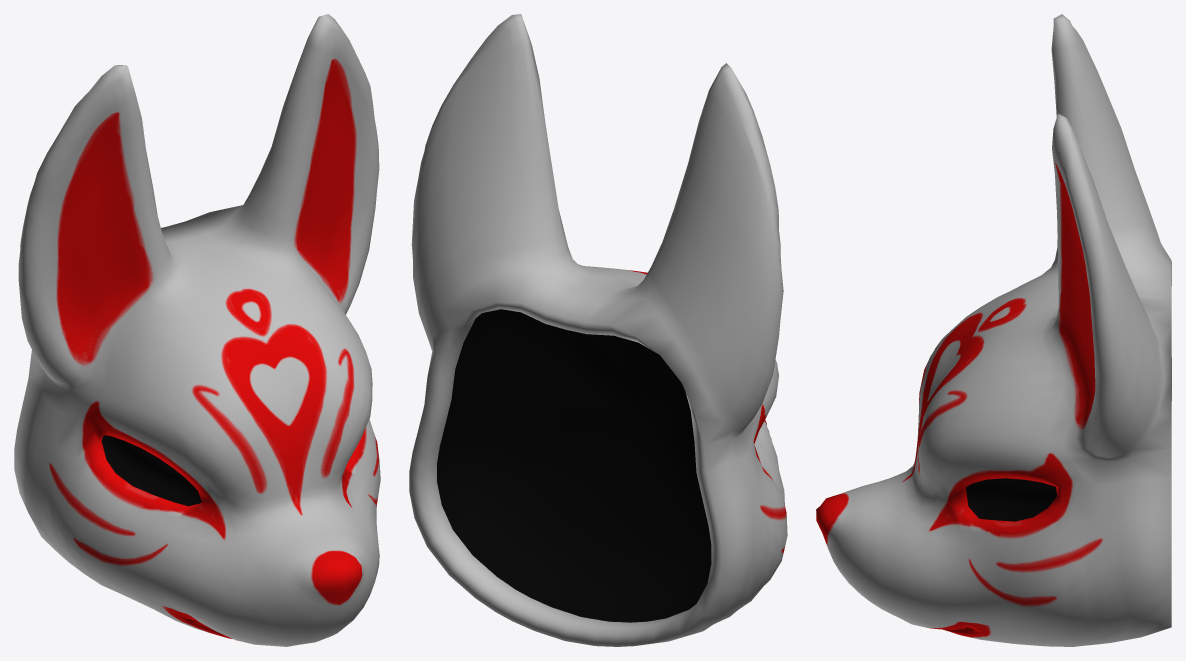
Rendered from kitsune_mask.fbx.
3 renders of one model, left to right at view 1: azimuth 30°, elevation 25°; view 2: azimuth 150°, elevation 25°; view 3: azimuth 270°, elevation 25°, orthographic. The views are drawn at different scales.
Visible parts, largest first — view 1: Finished Mask; view 2: Finished Mask; view 3: Finished Mask.
Part boxes in pixels (<box>): Finished Mask: <box>14,14,380,646</box>; Finished Mask: <box>409,14,787,646</box>; Finished Mask: <box>816,14,1171,646</box>.
Size of the model in its own units: 139 by 211 by 121.
